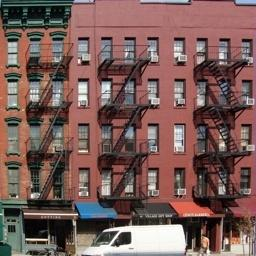building: (73, 0, 256, 220)
